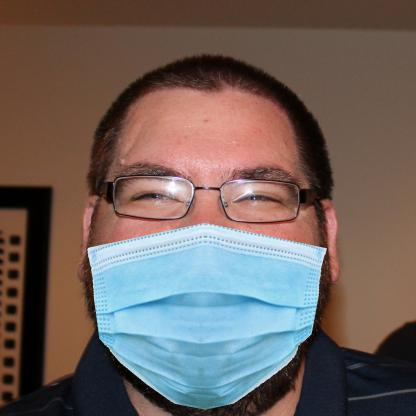Correctly_Masked: (90, 84, 321, 410)
